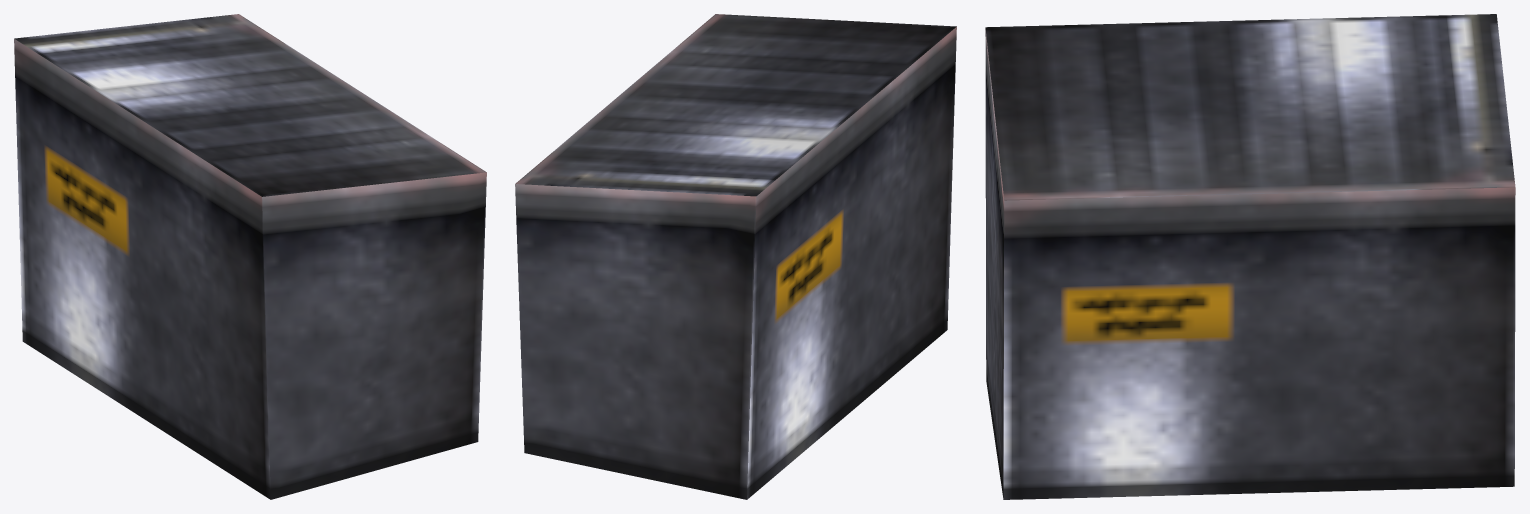
Rendered from dump03.glb.
3 views of the same model, side by side, from view 1: azimuth 30°, elevation 25°; view 2: azimuth 150°, elevation 25°; view 3: azimuth 270°, elevation 25° (orthographic). The views are drawn at different scales.
Parts seen in each view (by area): view 1: dump03; view 2: dump03; view 3: dump03.
Part boxes in pixels (box(x1,y1,x2,y2)): dump03: box(14, 14, 486, 499); dump03: box(515, 14, 956, 499); dump03: box(985, 14, 1515, 499).
Size of the model in its own units: 273 by 311 by 429.
1 material, 1 textured.
